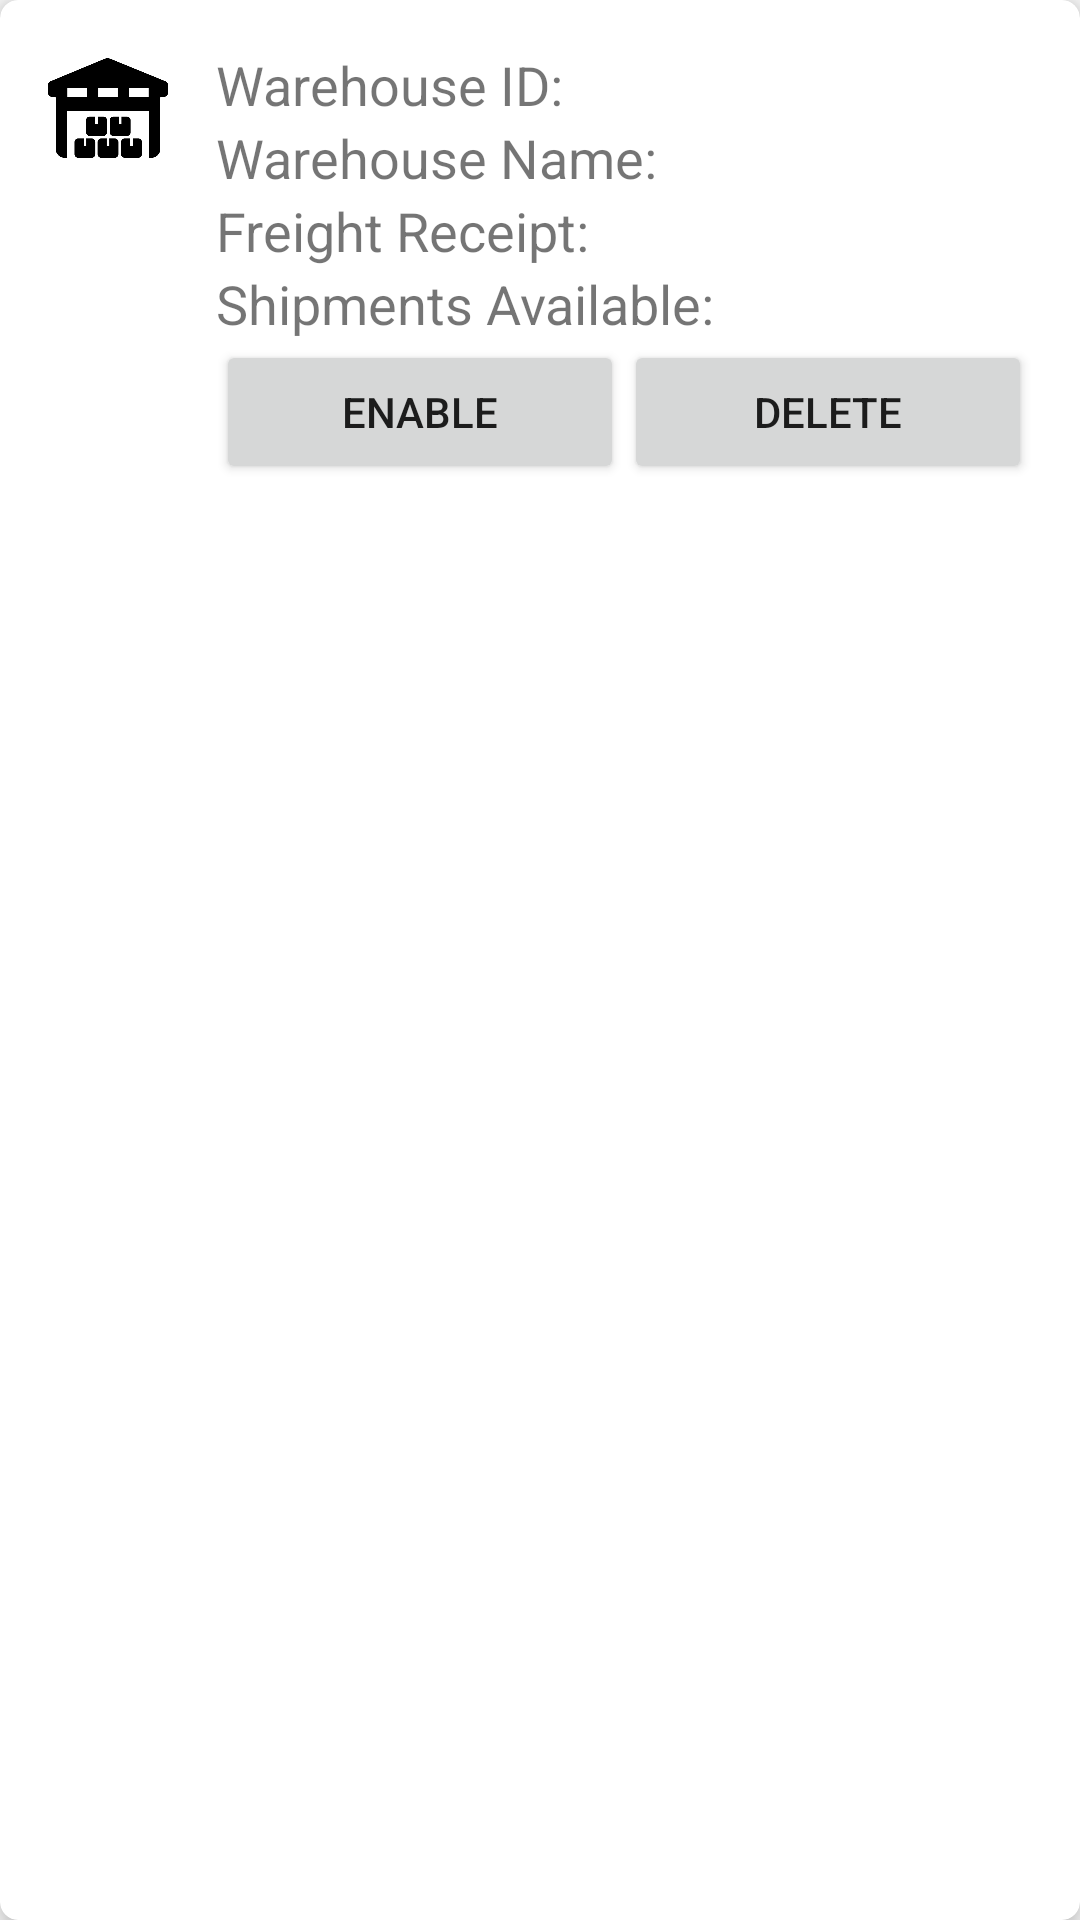

Icon click points for this 1080 × 1920 phone screenshot, format (x,y):
delivery: (108,108)
